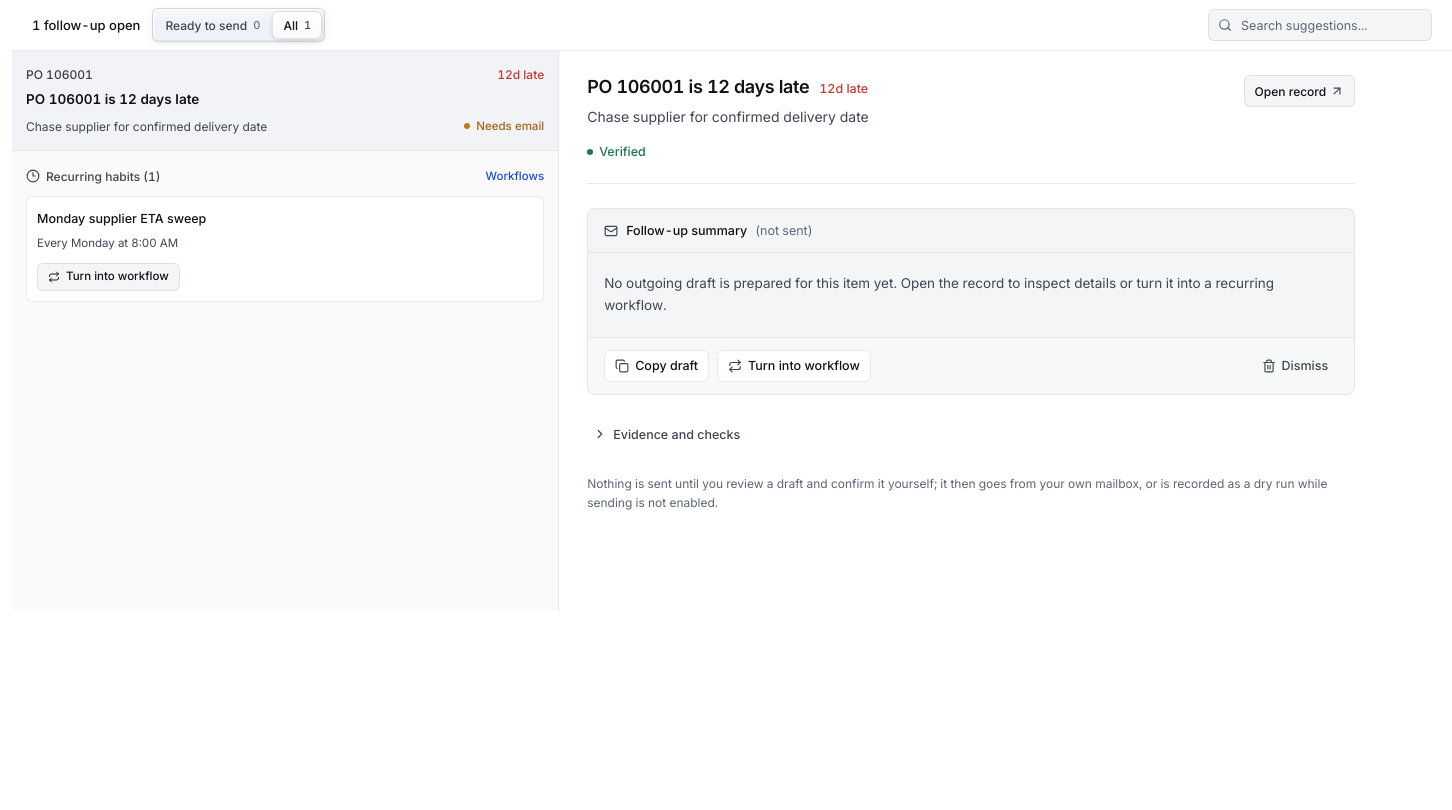
Test: Assist Suggestions and Memory tabs › renders proactive suggestions and turns one into a recurring workflow in one click
Expected: the element with test id "assist-suggestions-view" shows "PO 106001 is 12 days late", [12,51,558,150]
Expected: the element with test id "assist-mined-routines" shows "Monday supplier ETA sweep", [37,211,206,226]
Step 1. Click the button with test id "suggestion-make-workflow" → (794, 366), box [717,350,871,382]
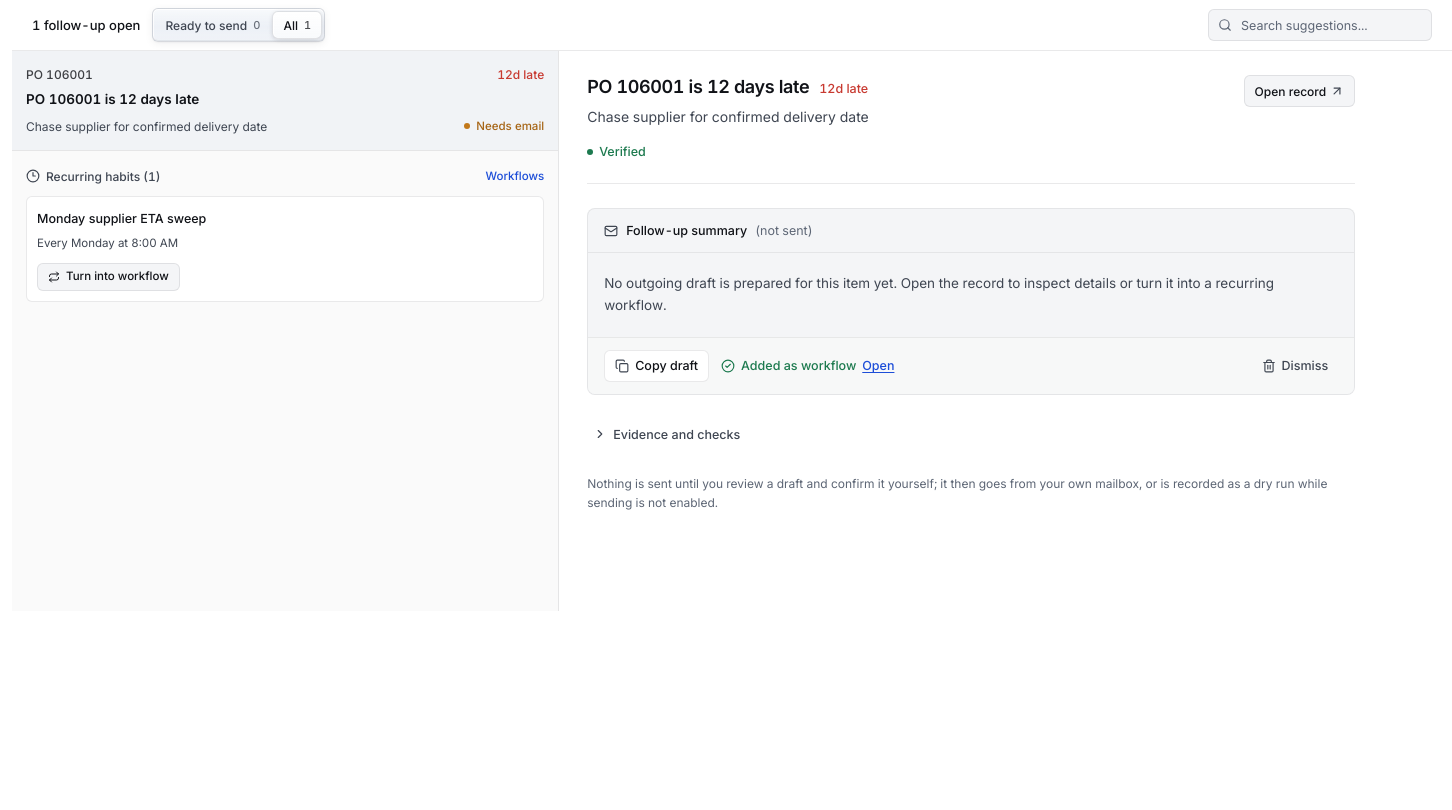
Now the element with test id "suggestion-workflow-created" is shown, box [717,354,898,377]
